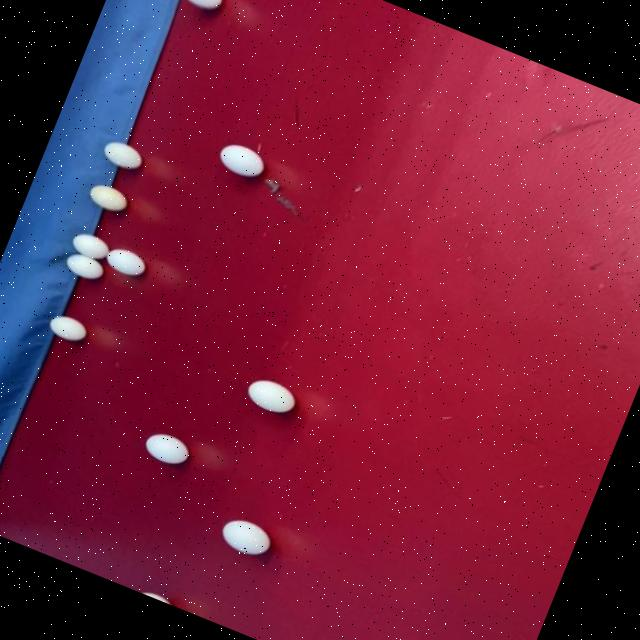ping-pong-ball: (212, 510, 276, 562), (238, 370, 302, 421), (209, 136, 269, 184), (137, 425, 195, 472), (94, 134, 147, 176), (96, 240, 149, 282), (42, 308, 92, 348), (81, 178, 131, 216), (59, 248, 108, 286), (64, 228, 112, 266), (131, 582, 182, 608), (170, 0, 231, 17)
